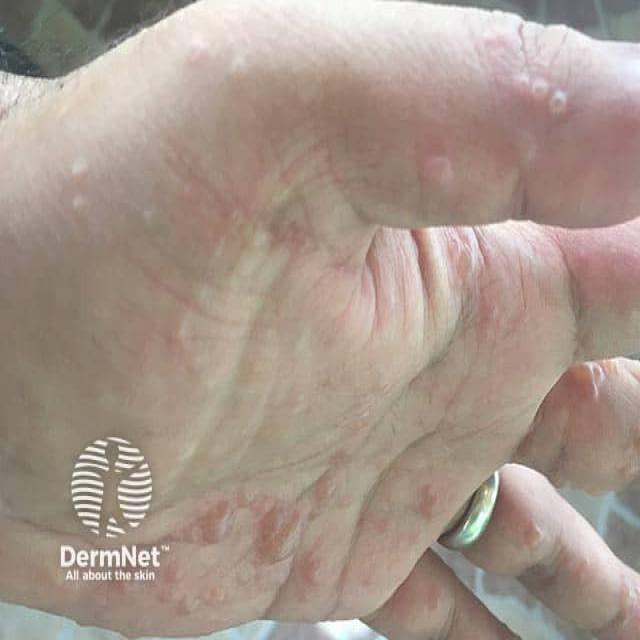Eczema: (51, 166, 524, 620), (270, 58, 566, 183), (508, 509, 640, 632), (565, 359, 640, 432), (394, 570, 458, 628)
